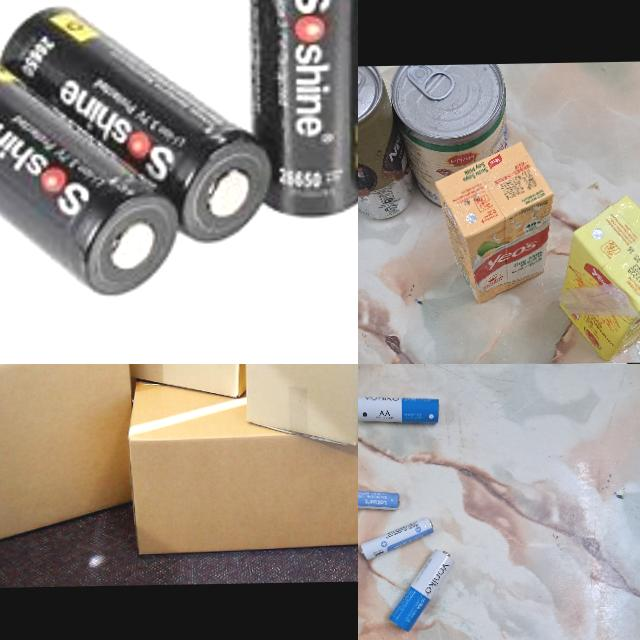aba de lata: (407, 63, 455, 98)
bateria: (0, 0, 270, 245), (0, 42, 179, 293), (245, 0, 358, 218), (386, 548, 455, 634), (358, 516, 435, 562), (358, 391, 439, 427), (358, 485, 400, 512)
caixinha: (434, 138, 555, 303), (558, 194, 640, 360)
lata: (389, 63, 508, 208), (358, 64, 416, 220)
papelão: (127, 371, 358, 554), (0, 364, 137, 567), (240, 364, 358, 448)
